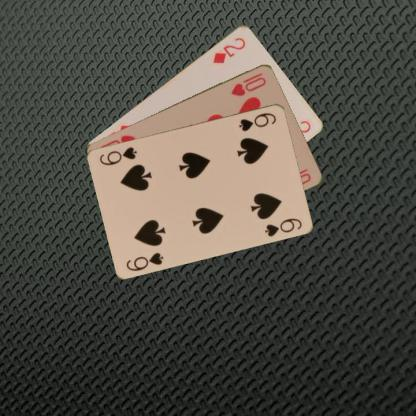10h: (228, 70, 268, 97)
2d: (210, 34, 247, 65)
6s: (236, 110, 278, 132), (124, 250, 165, 272)
